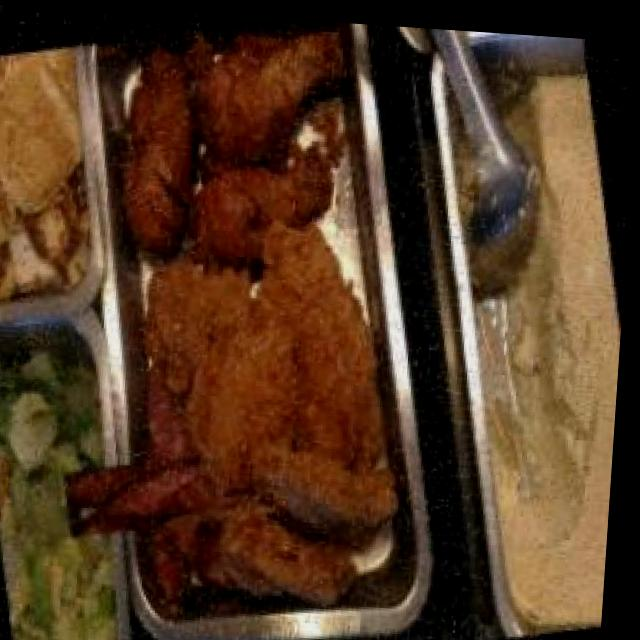chinese_sausage: (96, 402, 269, 575)
fried_chicken: (163, 203, 411, 508)
